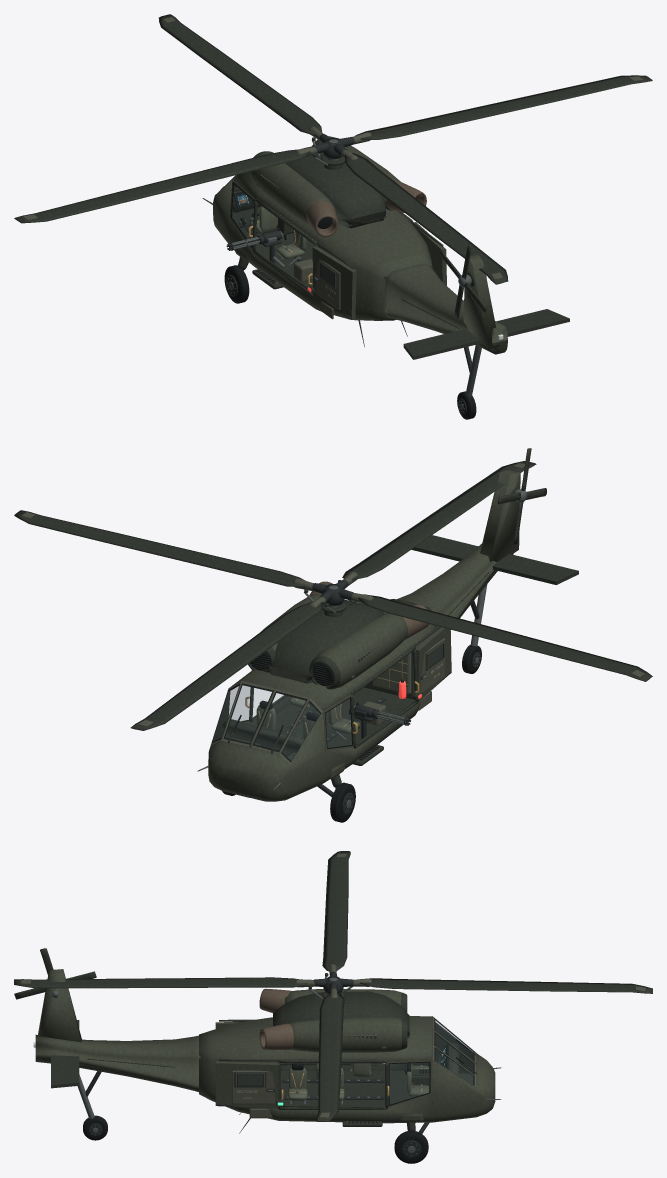
Rendered from black-hawk-high.glb.
3 views of the same model, one above another, from view 1: azimuth 30°, elevation 25°; view 2: azimuth 150°, elevation 25°; view 3: azimuth 270°, elevation 25° (orthographic). The views are drawn at different scales.
Visible parts, largest first — view 1: Airframe Olive enamel, MainRotor Dark enamel, Airframe Dark enamel, Airframe Rubber, Cabin Floor and liners, Airframe Heat-stained alloy, Airframe Panel enamel, Cabin Seat canvas, Airframe Glazing, MainRotor Panel enamel, TailRotor Dark enamel, MainRotor Gunmetal; view 2: Airframe Olive enamel, MainRotor Dark enamel, Airframe Dark enamel, Airframe Glazing, Airframe Rubber, Cabin Floor and liners, Airframe Panel enamel, Cabin Seat canvas, Cabin Dark enamel, Airframe Gunmetal, MainRotor Panel enamel, TailRotor Dark enamel (+1 smaller); view 3: Airframe Olive enamel, MainRotor Dark enamel, Airframe Dark enamel, Cabin Floor and liners, Airframe Glazing, Airframe Panel enamel, Airframe Rubber, Airframe Heat-stained alloy, Cabin Seat canvas, Airframe Gunmetal, MainRotor Panel enamel, TailRotor Dark enamel (+3 smaller).
Boxes of the visible parts, x1=… form: Airframe Olive enamel: x1=213, y1=136, x2=507, y2=354; MainRotor Dark enamel: x1=14, y1=14, x2=652, y2=284; Airframe Dark enamel: x1=237, y1=136, x2=569, y2=359; Airframe Rubber: x1=220, y1=175, x2=476, y2=419; Cabin Floor and liners: x1=232, y1=188, x2=314, y2=286; Airframe Heat-stained alloy: x1=306, y1=181, x2=426, y2=236; Airframe Panel enamel: x1=215, y1=175, x2=340, y2=319; Cabin Seat canvas: x1=250, y1=206, x2=306, y2=259; Airframe Glazing: x1=232, y1=185, x2=333, y2=285; MainRotor Panel enamel: x1=23, y1=17, x2=643, y2=279; TailRotor Dark enamel: x1=439, y1=243, x2=486, y2=319; MainRotor Gunmetal: x1=314, y1=134, x2=354, y2=159; Airframe Olive enamel: x1=208, y1=469, x2=520, y2=801; MainRotor Dark enamel: x1=14, y1=461, x2=652, y2=730; Airframe Dark enamel: x1=228, y1=487, x2=578, y2=797; Airframe Glazing: x1=213, y1=645, x2=442, y2=760; Airframe Rubber: x1=212, y1=643, x2=481, y2=822; Cabin Floor and liners: x1=231, y1=651, x2=414, y2=760; Airframe Panel enamel: x1=210, y1=638, x2=445, y2=764; Cabin Seat canvas: x1=248, y1=653, x2=411, y2=753; Cabin Dark enamel: x1=222, y1=678, x2=403, y2=756; Airframe Gunmetal: x1=250, y1=600, x2=480, y2=815; MainRotor Panel enamel: x1=22, y1=463, x2=644, y2=726; TailRotor Dark enamel: x1=498, y1=448, x2=546, y2=544; Airframe Olive enamel: x1=35, y1=969, x2=495, y2=1123; MainRotor Dark enamel: x1=14, y1=851, x2=652, y2=1121; Airframe Dark enamel: x1=51, y1=991, x2=476, y2=1131; Cabin Floor and liners: x1=280, y1=1042, x2=473, y2=1107; Airframe Glazing: x1=238, y1=1020, x2=472, y2=1103; Airframe Panel enamel: x1=232, y1=1016, x2=476, y2=1118; Airframe Rubber: x1=83, y1=1018, x2=474, y2=1163; Airframe Heat-stained alloy: x1=259, y1=988, x2=293, y2=1049; Cabin Seat canvas: x1=288, y1=1063, x2=428, y2=1100; Airframe Gunmetal: x1=85, y1=1071, x2=429, y2=1158; MainRotor Panel enamel: x1=21, y1=853, x2=645, y2=1117; TailRotor Dark enamel: x1=14, y1=948, x2=96, y2=999.
Size of the model in its own units: 16.3 by 5.07 by 16.3.
Materials: 21 (10 with a texture image).
